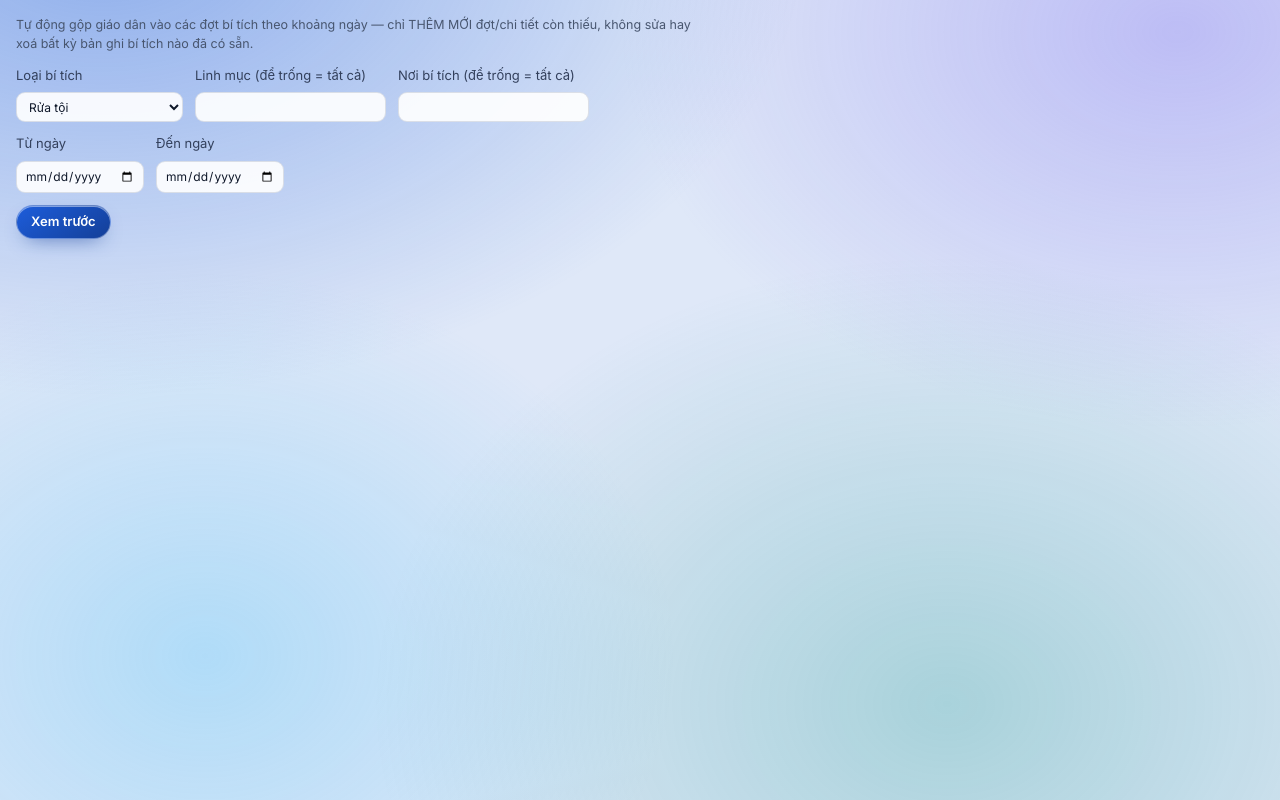
TaoDotBiTichTuDongPage › bao loi neu chua chon khoang ngay, khong goi API
This screenshot has width=1280, height=800.
Click the button "Xem trước": point(63, 222) [16, 204, 111, 238]
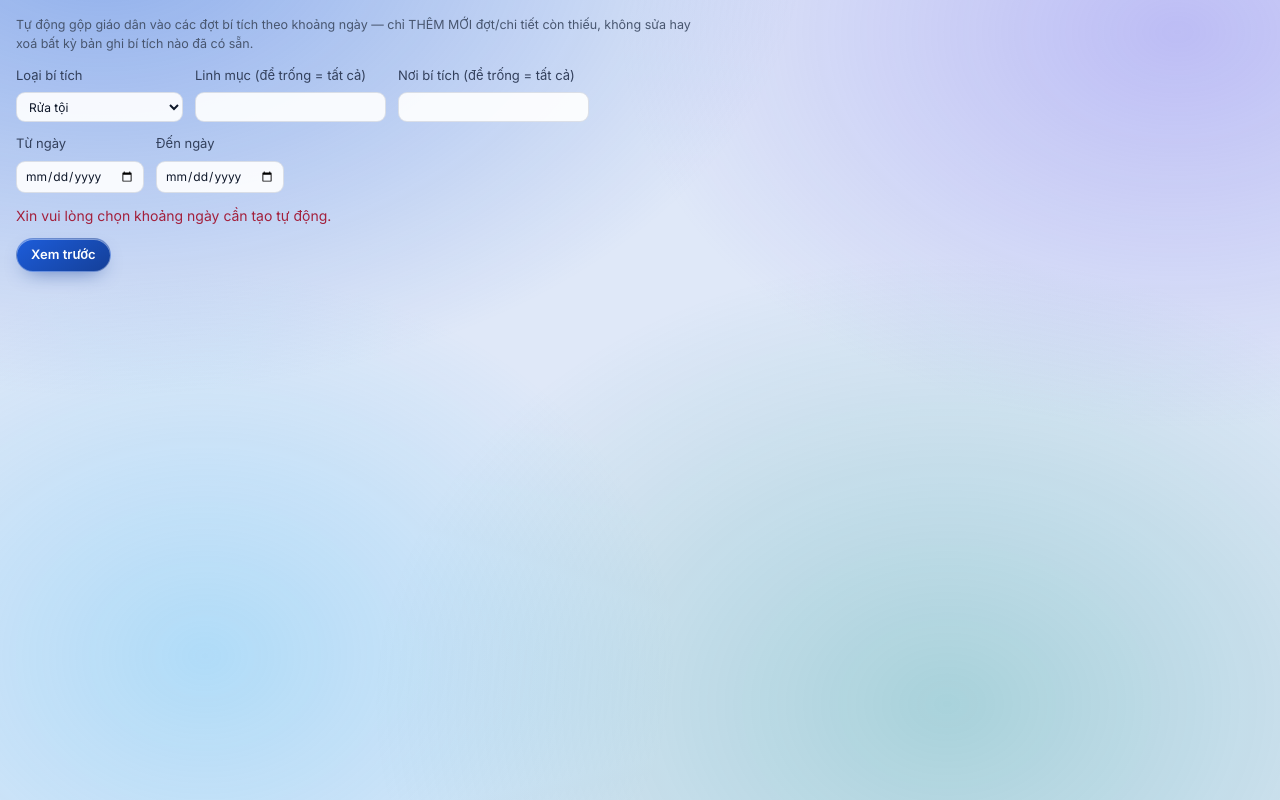
Expected: the text "Xin vui lòng chọn khoảng ngày cần tạo tự động." is shown, [16, 206, 331, 224]
